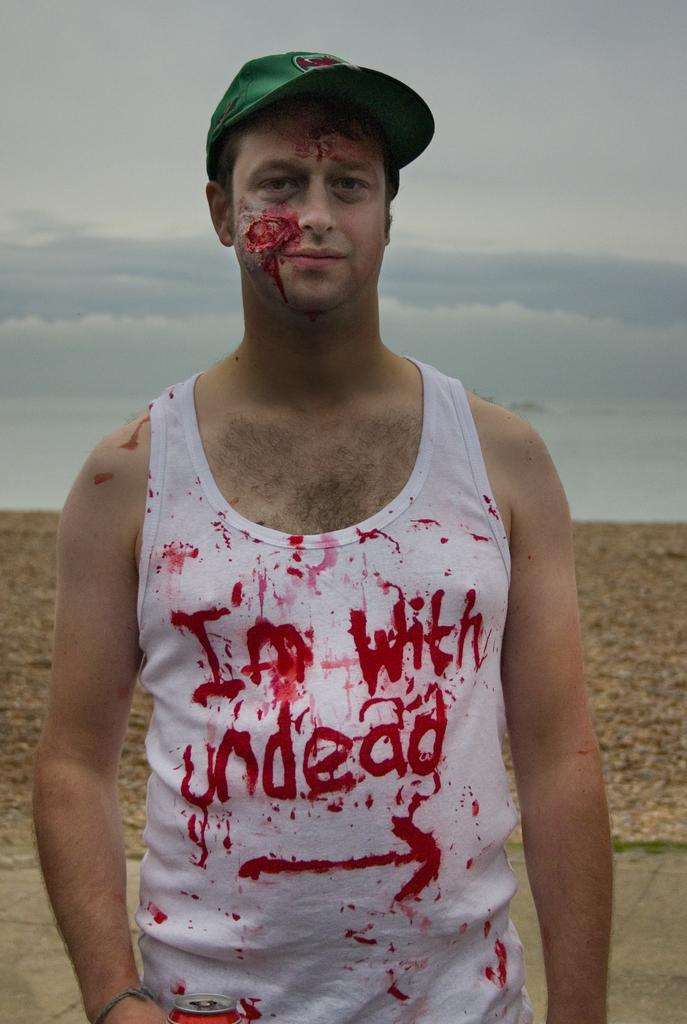Hat: (206, 52, 437, 172)
